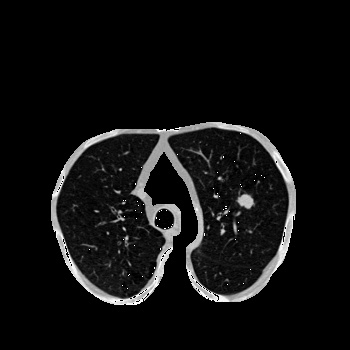PN: (237, 193, 253, 209)
